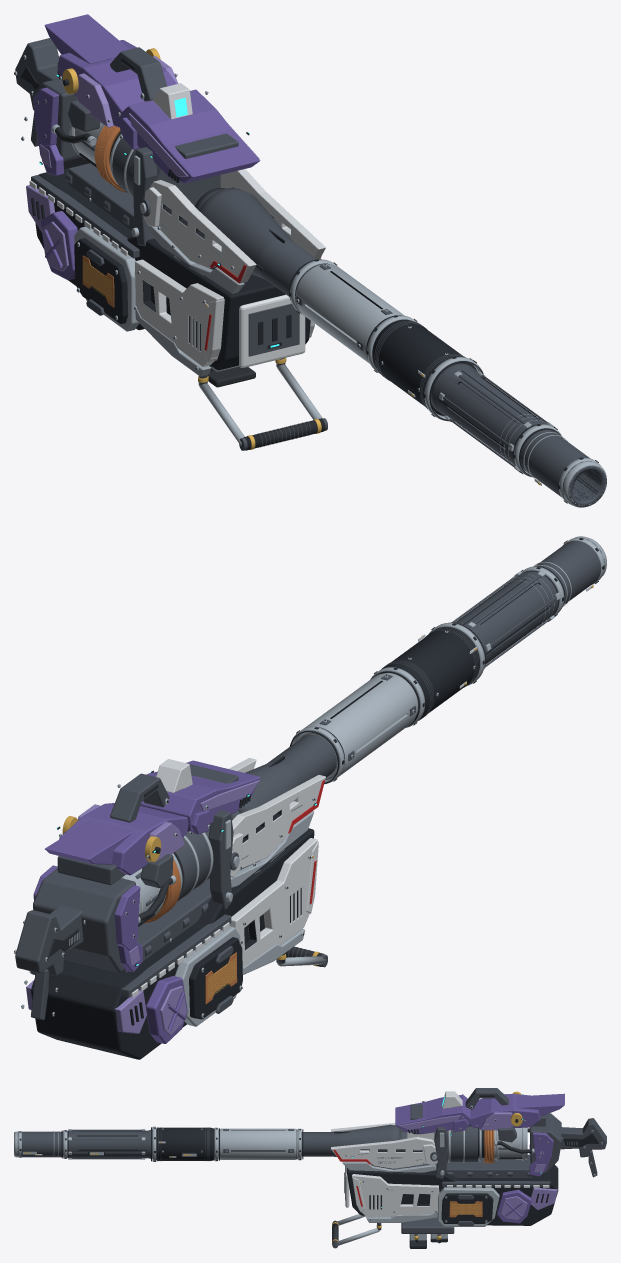
Rendered from HALBREAKER_AX01.fbx.
3 renders of one model, top to bottom at view 1: azimuth 30°, elevation 25°; view 2: azimuth 150°, elevation 25°; view 3: azimuth 270°, elevation 25°, orthographic. The views are drawn at different scales.
Parts seen in each view (by area): view 1: HALBREAKER_LOD0; view 2: HALBREAKER_LOD0; view 3: HALBREAKER_LOD0.
Part boxes in pixels (x1=…): HALBREAKER_LOD0: x1=14, y1=14, x2=606, y2=507; HALBREAKER_LOD0: x1=14, y1=536, x2=606, y2=1059; HALBREAKER_LOD0: x1=14, y1=1088, x2=606, y2=1248.
Size of what is drawn, in the model's own units: 0.5613 by 1.13 by 4.12.
